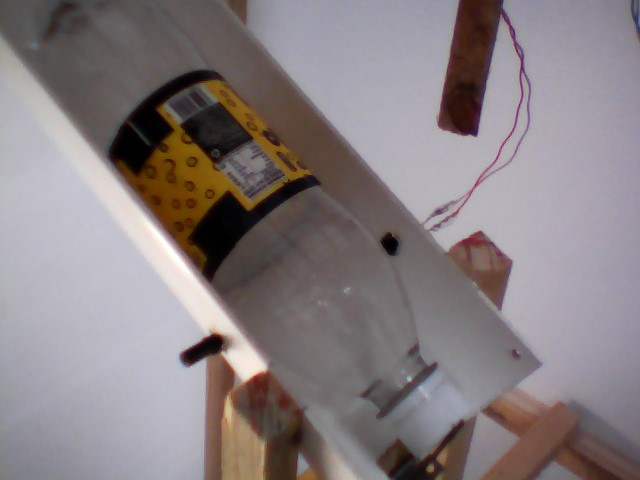plastico: (21, 1, 478, 462)
